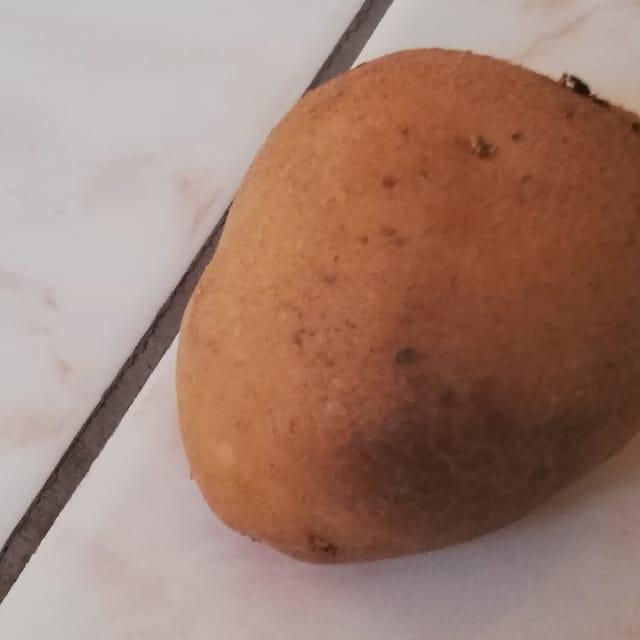potato: (148, 32, 640, 562)
